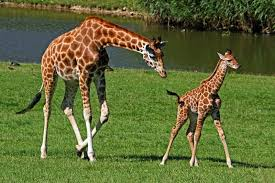Jirafa: (92, 15, 174, 83), (193, 36, 249, 123)
